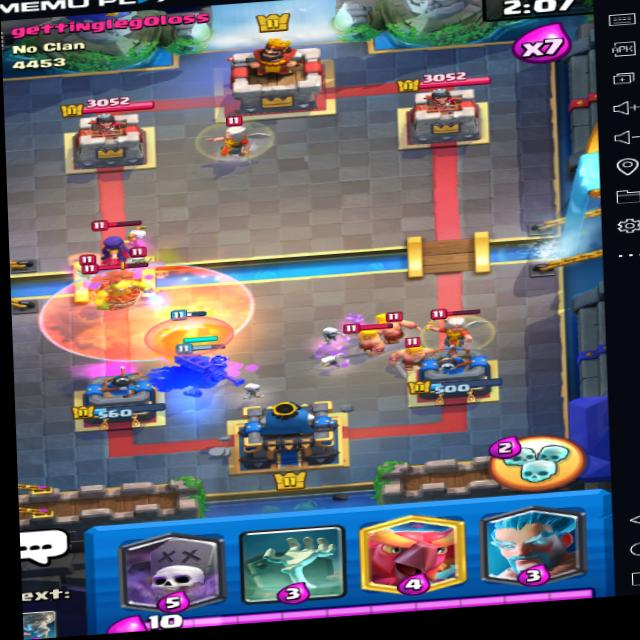barbarian: (340, 317, 393, 355), (374, 312, 421, 347), (386, 335, 434, 369)
battle-healer: (424, 302, 499, 359), (193, 115, 273, 164)
goblin-demolisher: (85, 263, 157, 316)
skeleton: (128, 242, 161, 268)
witch: (95, 222, 145, 266)
